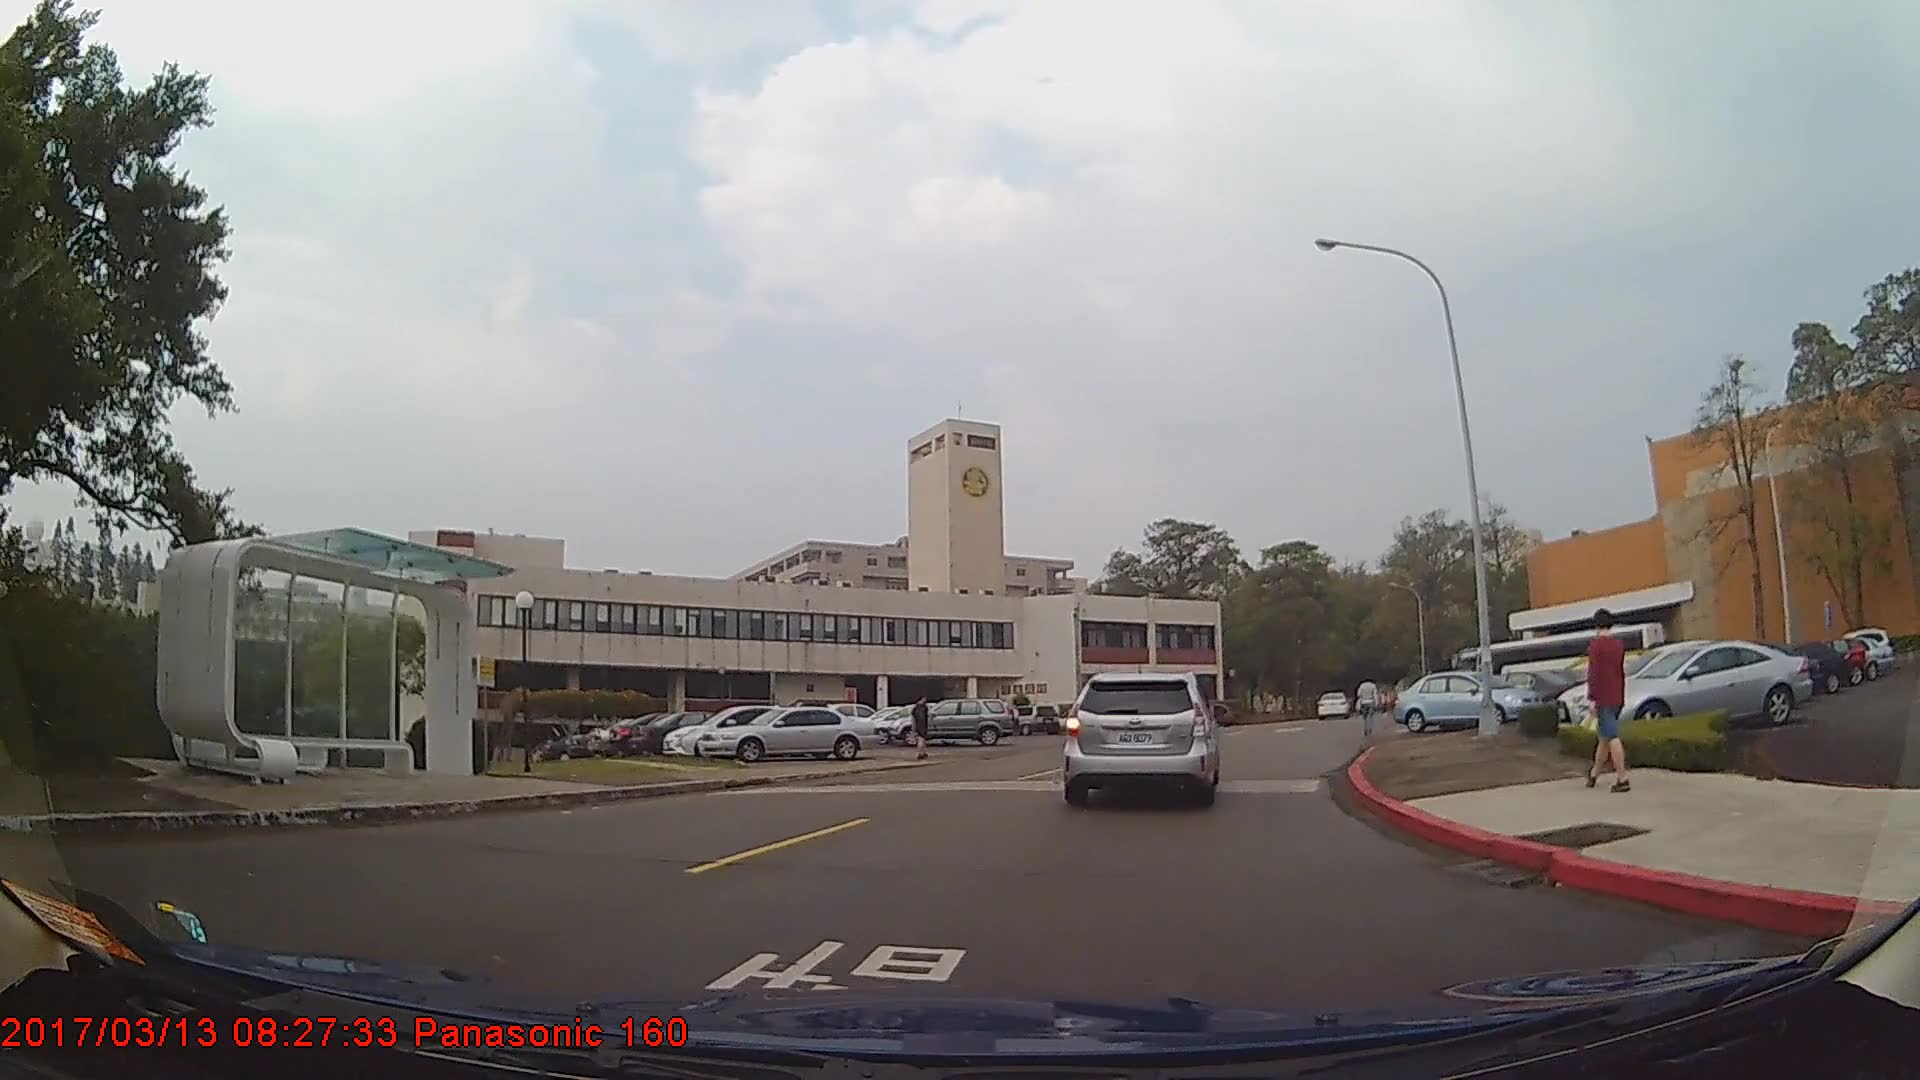pedestrian: (1581, 608, 1637, 802), (909, 694, 936, 764), (1357, 672, 1384, 736)
vehicle: (1063, 667, 1218, 808), (1584, 639, 1812, 732), (1556, 639, 1777, 732), (697, 705, 878, 760), (1390, 666, 1540, 730), (657, 703, 834, 757), (1735, 639, 1850, 693), (628, 707, 748, 758), (887, 697, 1015, 744), (1315, 687, 1349, 719)
